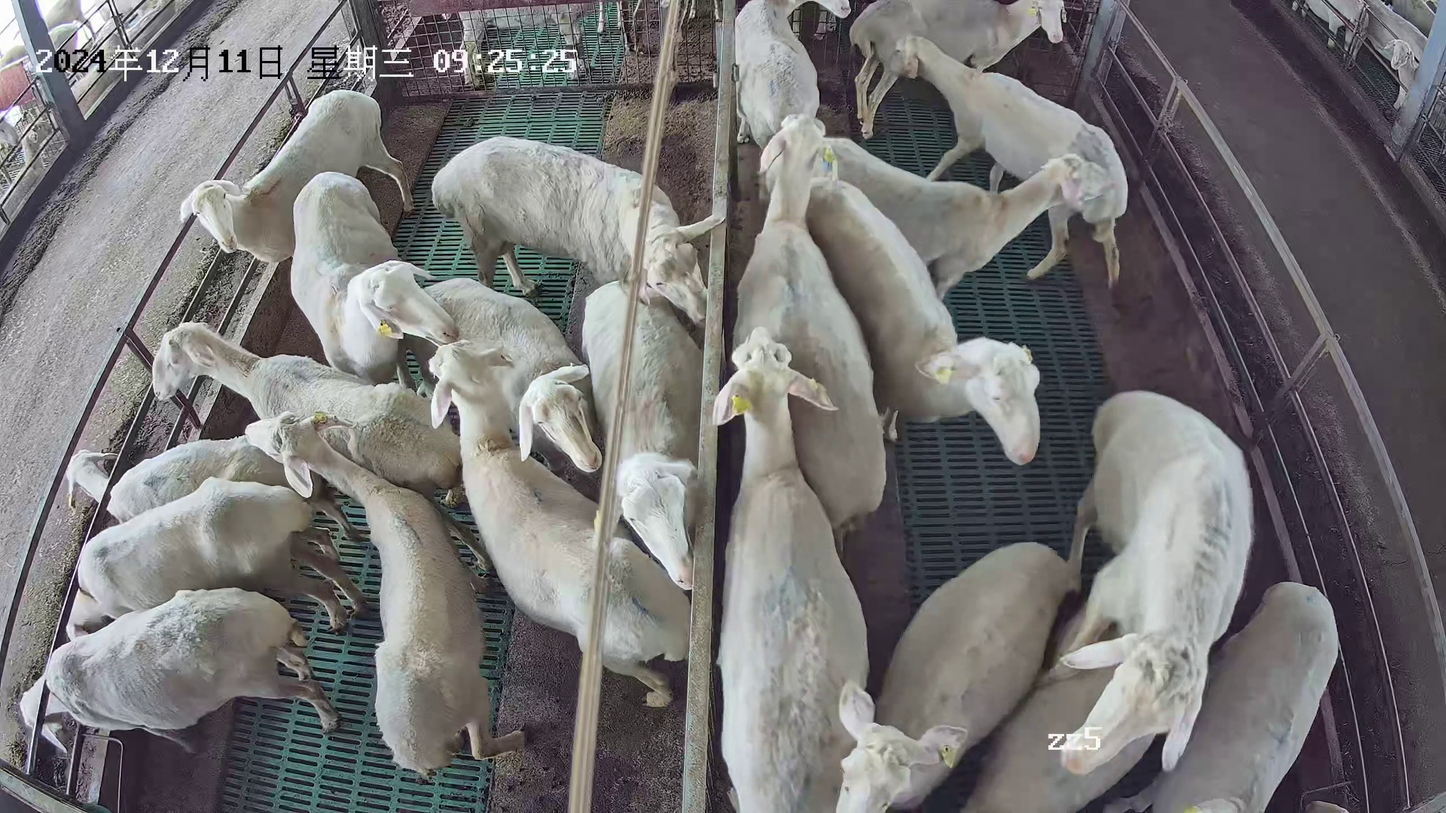Smounting: (961, 387, 1256, 813)
mounted: (965, 606, 1158, 813)
